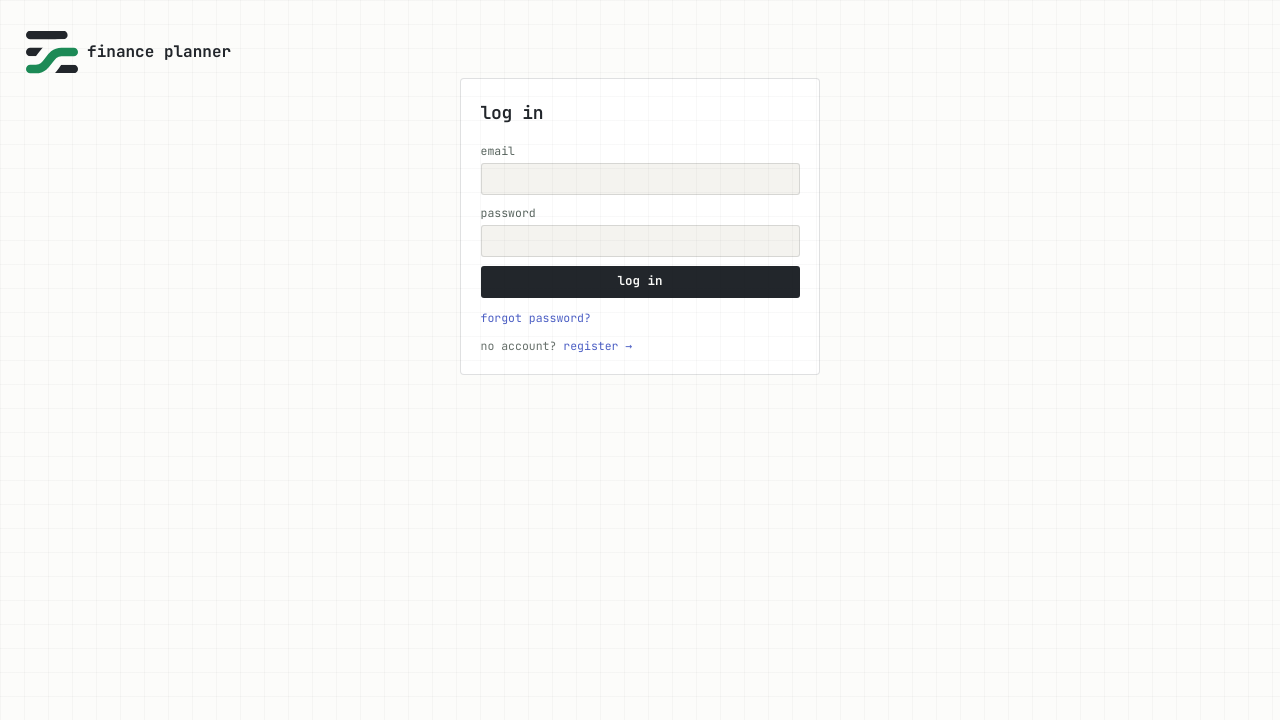
LoginPage — two-factor step-up › swaps in the code stage when the account needs a second factor
Type "ada@example.com" into the field labelled "email" at (640, 179), box top-left (480, 163), bottom-right (800, 195)
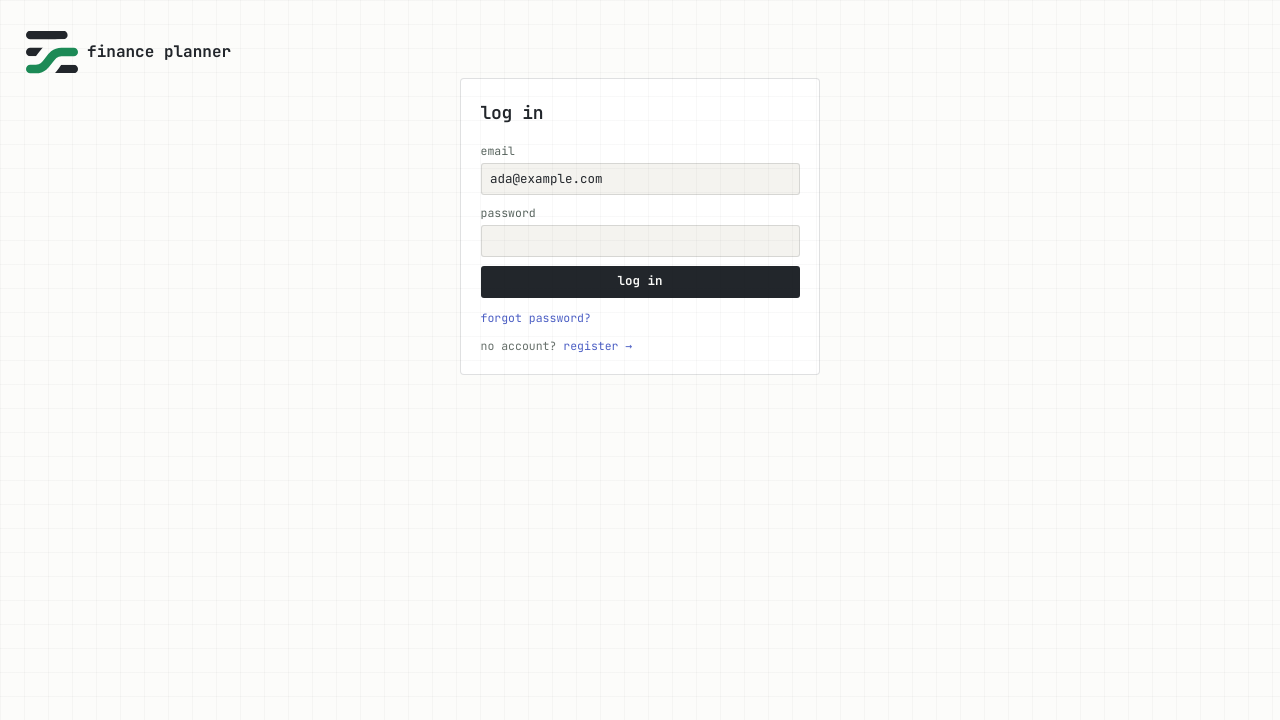
Type "hunter2hunter2" into the password field labelled "password" at (640, 241), box top-left (480, 225), bottom-right (800, 257)
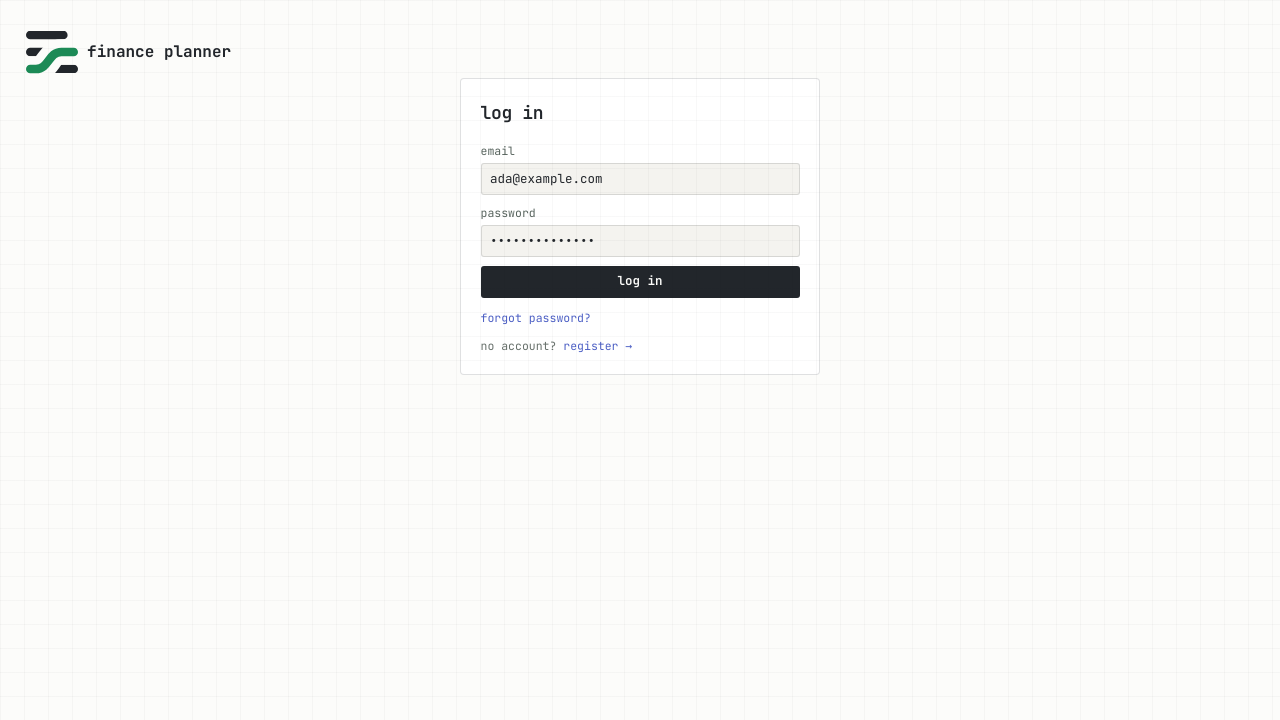
Click the button "log in" at (640, 282), box top-left (480, 266), bottom-right (800, 298)
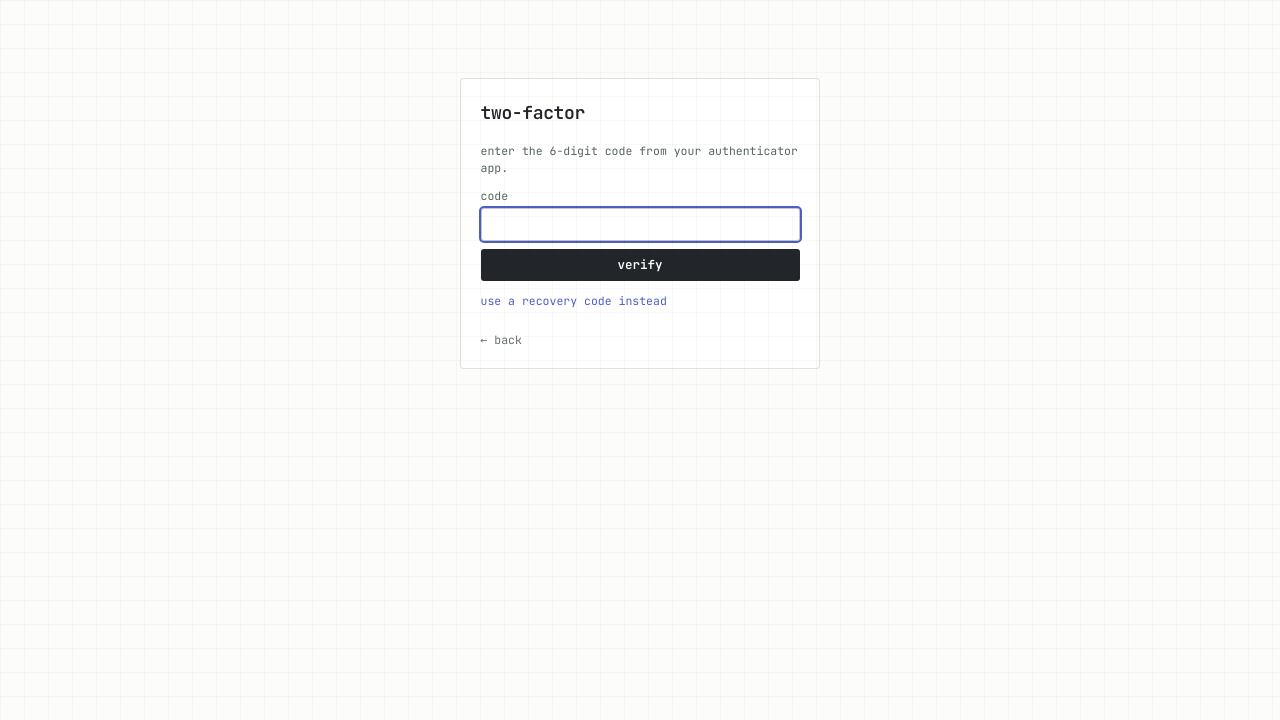
Expected: the heading "two-factor" is shown, top-left (480, 100), bottom-right (585, 124)
Expected: the text "enter the 6-digit code from your authenticator app." is shown, top-left (480, 142), bottom-right (800, 176)
Expected: the label labelled "password" is gone
